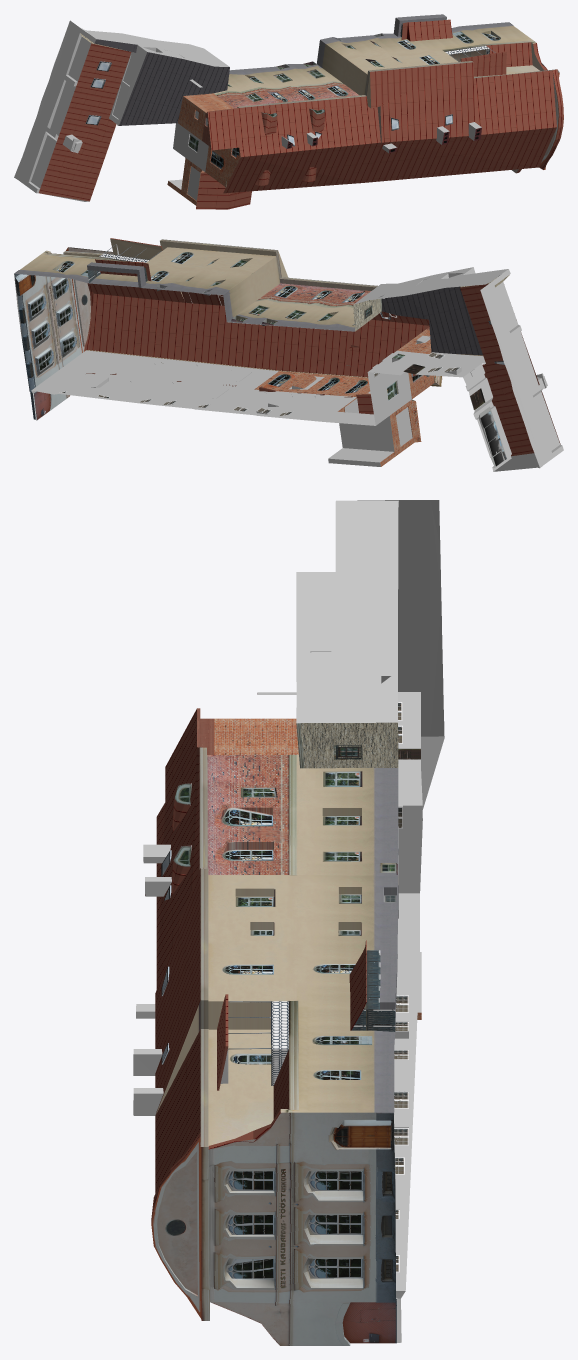
Rendered from Toom-Kooli_17-origo.obj.
3 renders of one model, top to bottom at view 1: azimuth 30°, elevation 25°; view 2: azimuth 150°, elevation 25°; view 3: azimuth 270°, elevation 25°, orthographic. The views are drawn at different scales.
Parts seen in each view (by area): view 1: Toom_Kooli_17; view 2: Toom_Kooli_17; view 3: Toom_Kooli_17.
Boxes of the visible parts, left/top/right/bottom form: Toom_Kooli_17: left=14, top=14, right=563, bottom=209; Toom_Kooli_17: left=14, top=238, right=563, bottom=471; Toom_Kooli_17: left=133, top=500, right=444, bottom=1345.
Bounding box in the file's own units: 64.81 × 28.5 × 18.01.
